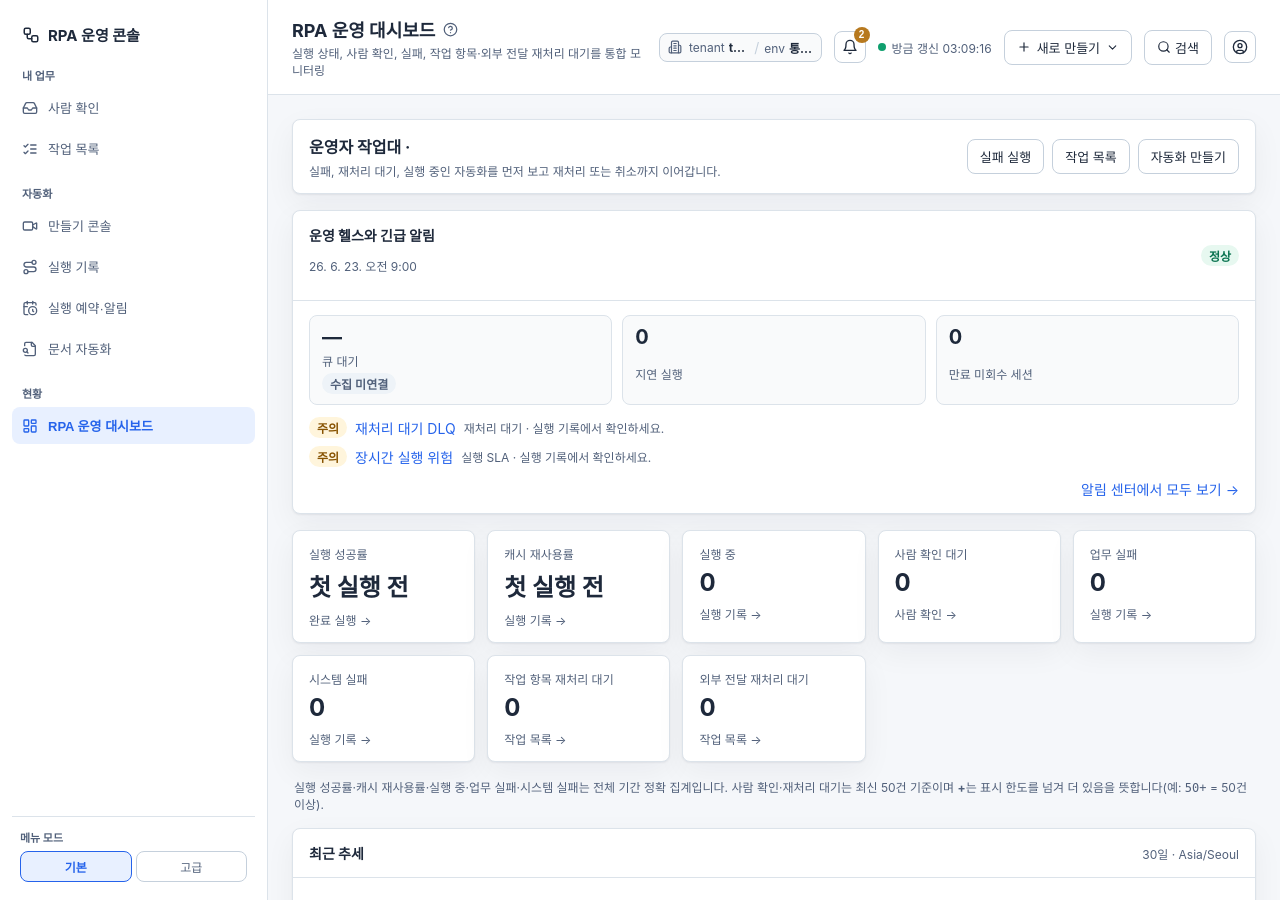
Test: topbar alert bell › 항목 부제(소스 라벨)는 제목에 이미 포함되면 생략한다 — 중복 표기 제거(N4)
The image size is (1280, 900).
Click the button named "알림 — 운영 알림 2건": (850, 47) [834, 31, 866, 63]
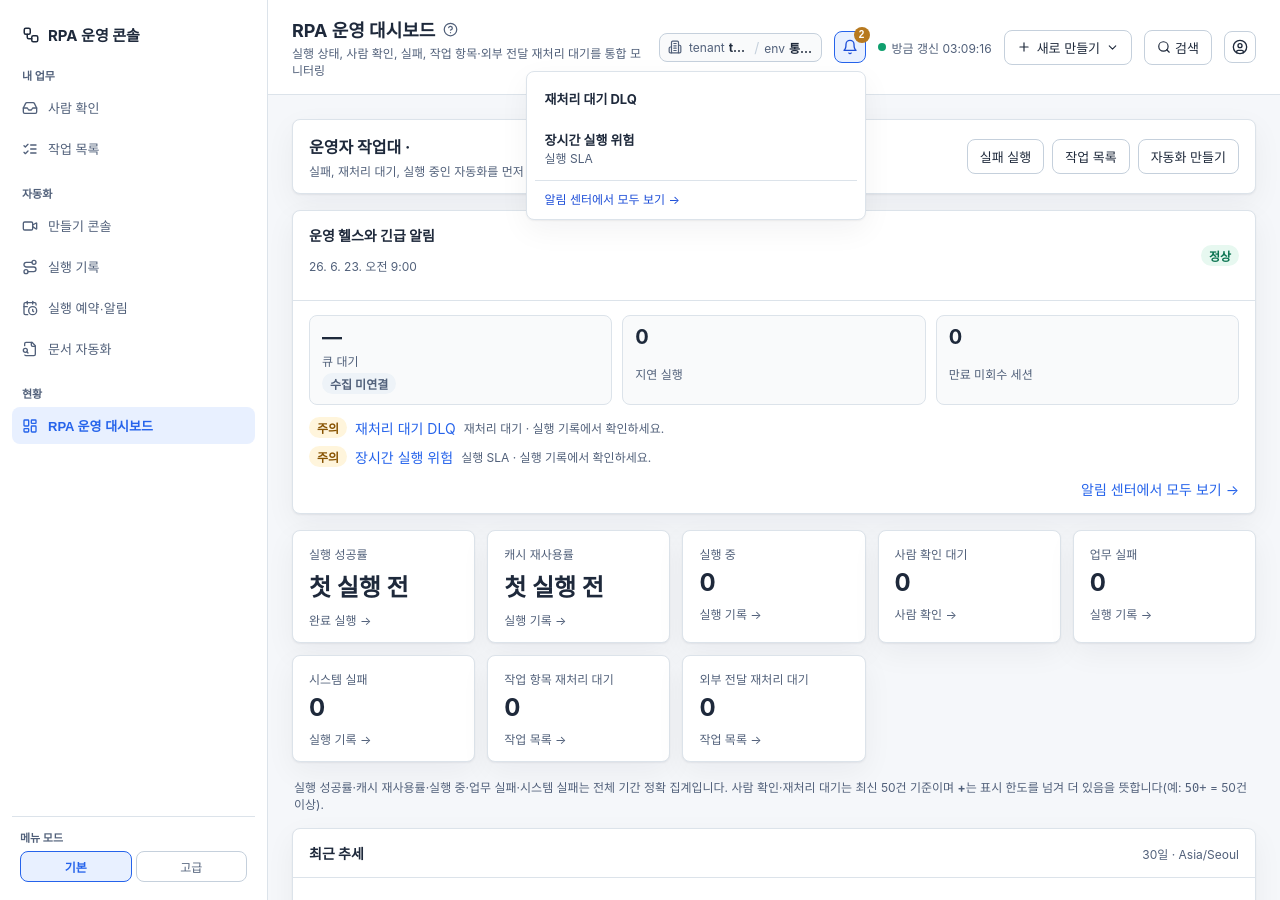
Expected: the text "실행 SLA" is shown, [544, 151, 593, 166]
